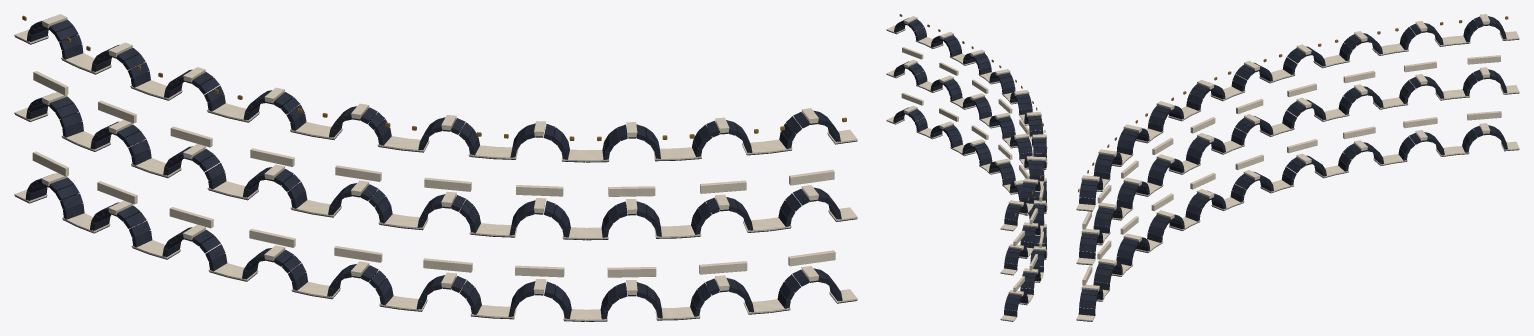
The model's file is COL_ExteriorArcade_Q2.glb.
3 views of the same model, side by side, from view 1: azimuth 30°, elevation 25°; view 2: azimuth 150°, elevation 25°; view 3: azimuth 270°, elevation 25° (orthographic). The views are drawn at different scales.
Visible parts, largest first — view 1: COL_ExteriorArcade_Q2; view 2: COL_ExteriorArcade_Q2; view 3: COL_ExteriorArcade_Q2.
Part boxes in pixels (x1,y1,x2,y2): COL_ExteriorArcade_Q2: (14,14,857,321); COL_ExteriorArcade_Q2: (886,14,1047,321); COL_ExteriorArcade_Q2: (1076,14,1519,321).
Size of the model in its own units: 110 by 37.63 by 115.
3 materials, 3 textured.
